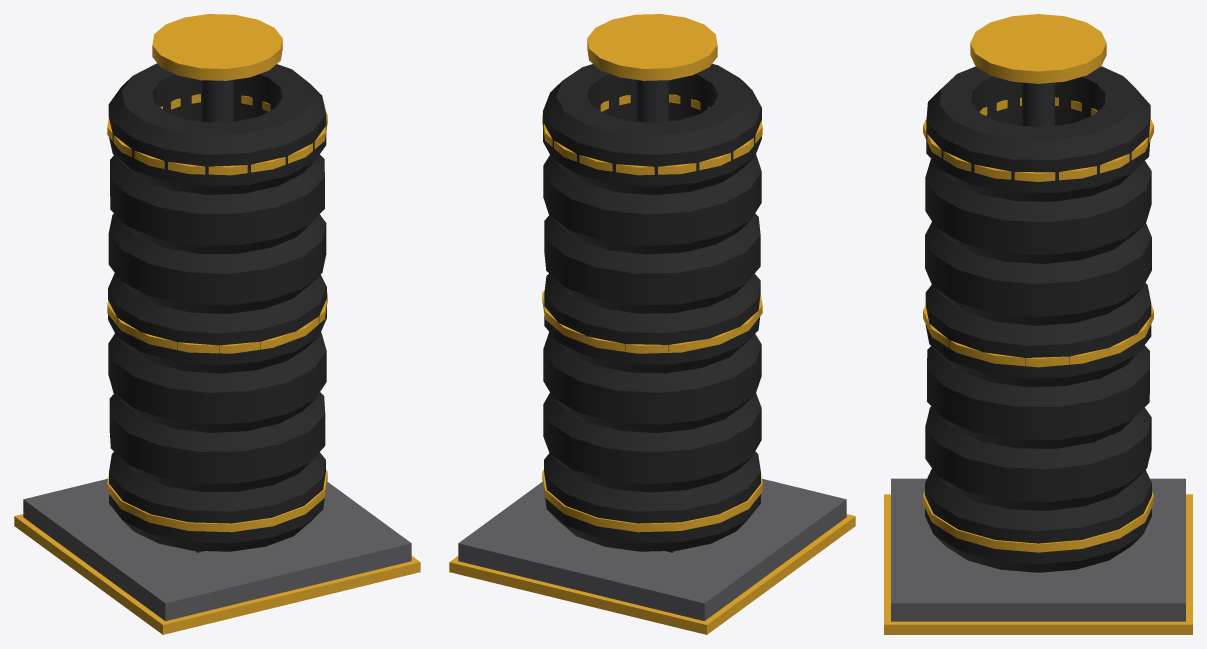
The model's file is Tire_Column.glb.
The picture shows the model from 3 angles, left to right: view 1: azimuth 30°, elevation 25°; view 2: azimuth 150°, elevation 25°; view 3: azimuth 270°, elevation 25°; orthographic projection. The views are drawn at different scales.
Parts seen in each view (by area): view 1: Tire_Column; view 2: Tire_Column; view 3: Tire_Column.
Boxes of the visible parts, x1,y1,x2,y2 form: Tire_Column: (14, 14, 420, 634); Tire_Column: (449, 14, 855, 634); Tire_Column: (884, 14, 1192, 634).
Size of the model in its own units: 1.36 by 2.56 by 1.36.
